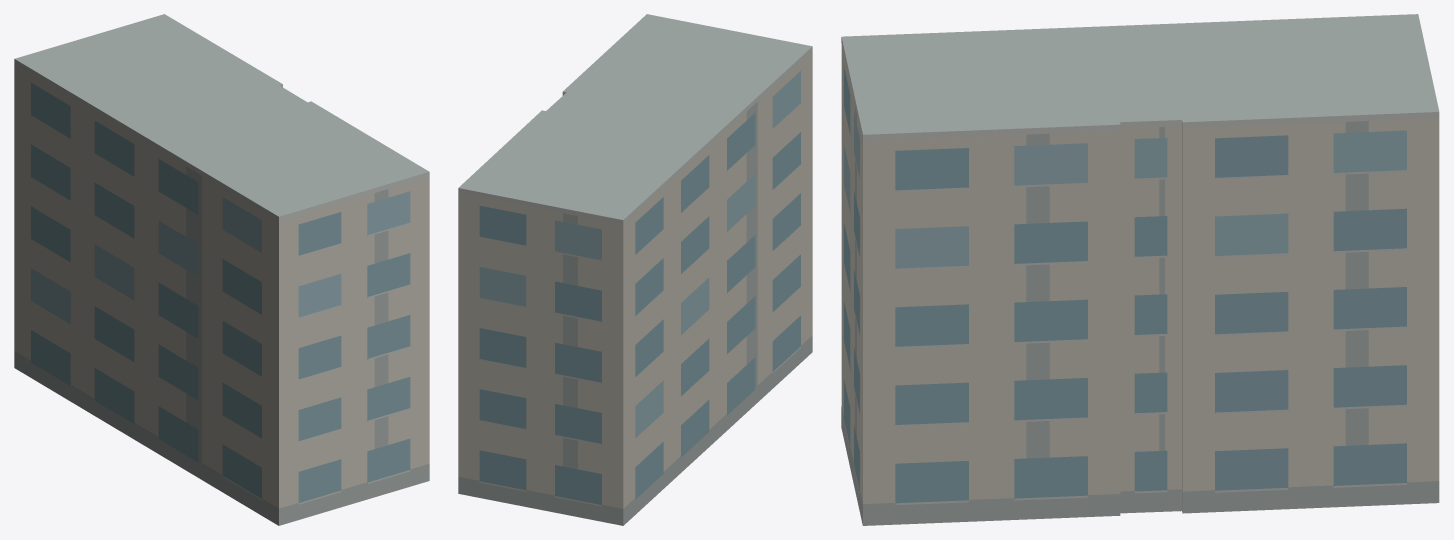
Rendered from survey-upis-32699920.glb.
3 views of the same model, side by side, from view 1: azimuth 30°, elevation 25°; view 2: azimuth 150°, elevation 25°; view 3: azimuth 270°, elevation 25° (orthographic). The views are drawn at different scales.
Visible parts, largest first — view 1: survey-upis-32699920.tmp; view 2: survey-upis-32699920.tmp; view 3: survey-upis-32699920.tmp.
Part boxes in pixels (left/top/right/bottom): survey-upis-32699920.tmp: left=14, top=14, right=429, bottom=525; survey-upis-32699920.tmp: left=458, top=14, right=812, bottom=525; survey-upis-32699920.tmp: left=841, top=14, right=1439, bottom=525.
Size of the model in its own units: 10.11 by 15.25 by 21.14.
